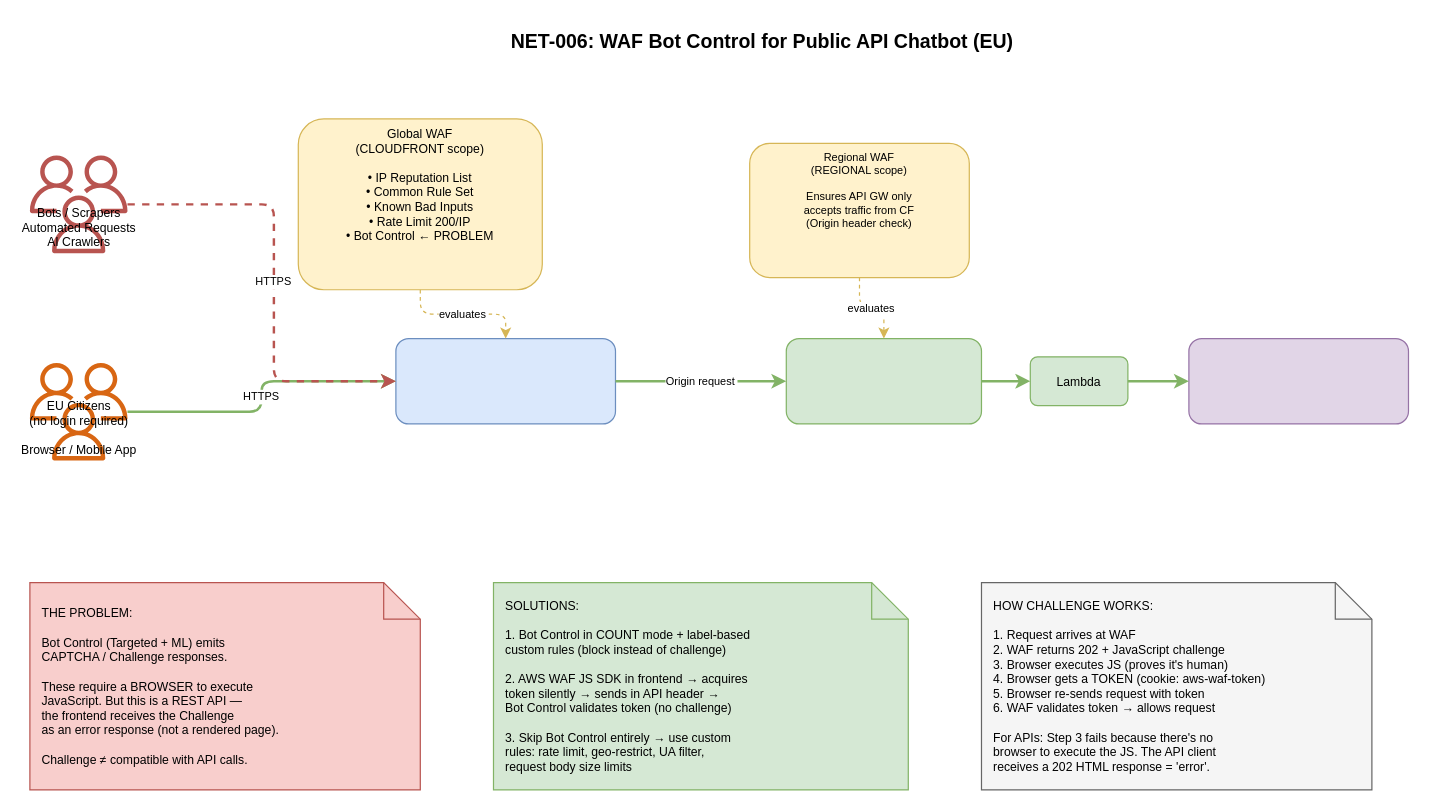
The diagram is 1430 pixels wide and 811 high, and some of its shapes have lost their labels. Here are the shapes that lost their labels. From the top down, the centre of each, then its label:
the point at 505,380: CloudFront Distribution (EU Edge Locations)
the point at 883,380: API Gateway (REST API) eu-west-1
the point at 1298,380: Amazon Bedrock Knowledge Bases + Nova Lite Model
